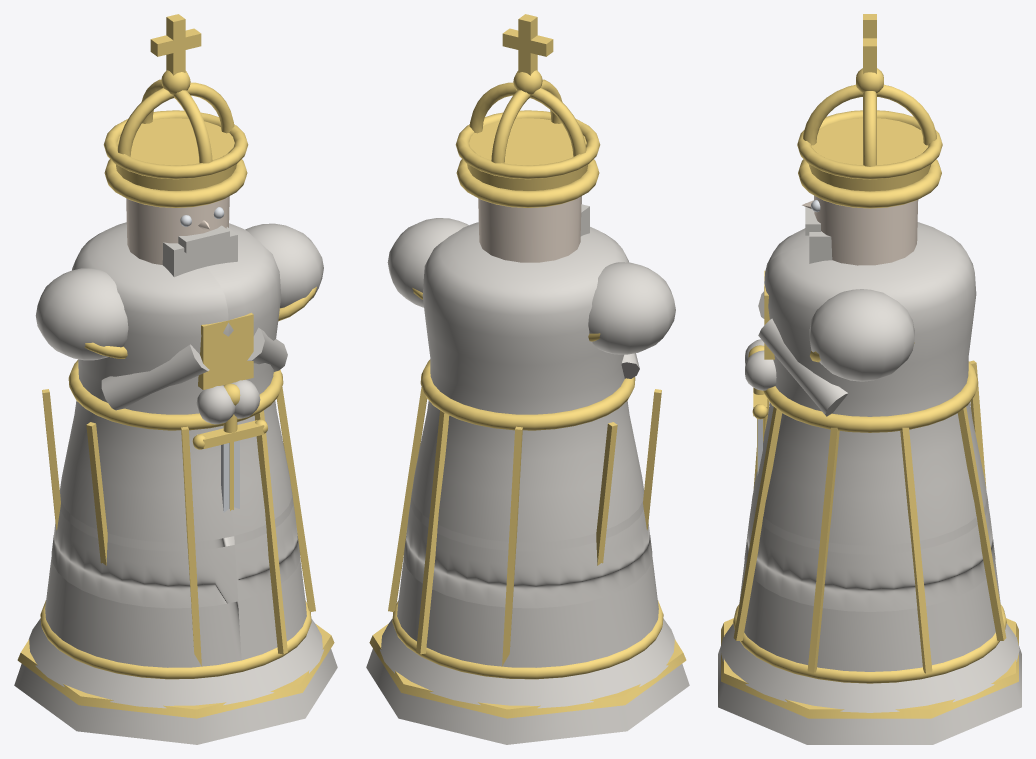
File: king.glb
3 views of the same model, side by side, from view 1: azimuth 30°, elevation 25°; view 2: azimuth 150°, elevation 25°; view 3: azimuth 270°, elevation 25° (orthographic).
Visible parts, largest first — view 1: body, gold, face, steel; view 2: body, gold, face; view 3: body, gold, face.
Boxes of the visible parts, box(x1,y1,x2,y2) form: body: box(14, 222, 337, 744); gold: box(17, 14, 334, 718); face: box(126, 196, 229, 264); steel: box(180, 207, 239, 512); body: box(366, 196, 689, 744); gold: box(369, 14, 686, 718); face: box(478, 196, 581, 262); body: box(718, 203, 1021, 744); gold: box(721, 14, 1018, 718); face: box(802, 195, 918, 265).
Size of the model in its own units: 0.815 by 1.87 by 0.7761.
